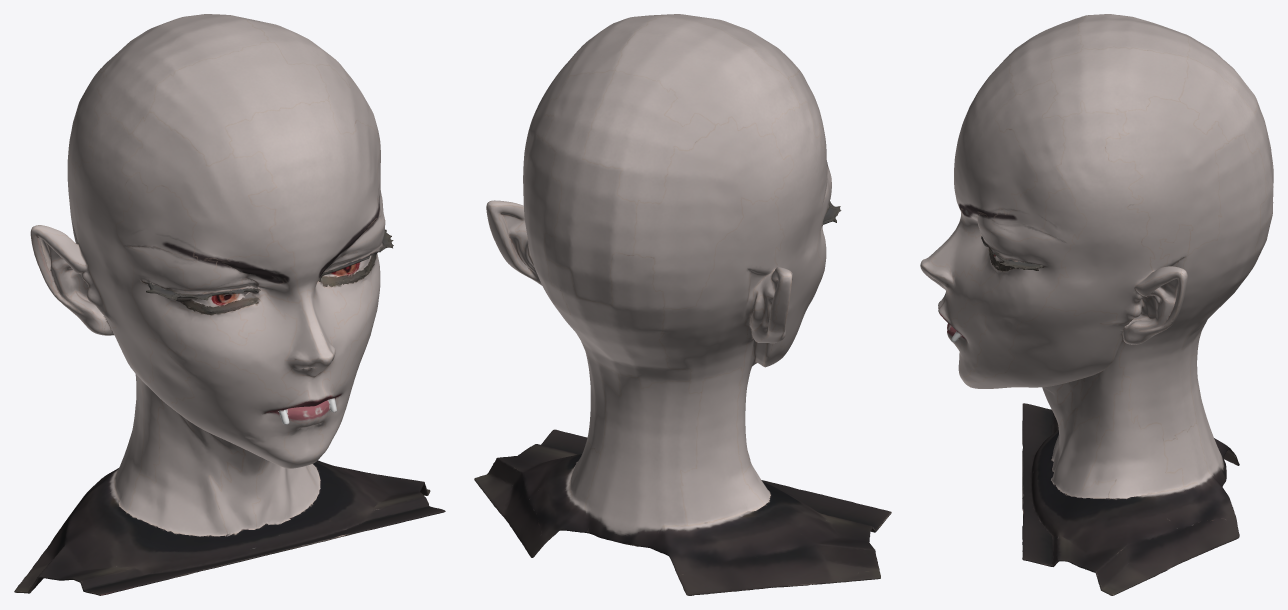
The model's file is head7_s56_edit.glb.
The picture shows the model from 3 angles, left to right: view 1: azimuth 30°, elevation 25°; view 2: azimuth 150°, elevation 25°; view 3: azimuth 270°, elevation 25°; orthographic projection. The views are drawn at different scales.
Size of the model in its own units: 0.8262 by 0.9687 by 0.657.
Materials: 1 (1 with a texture image).
